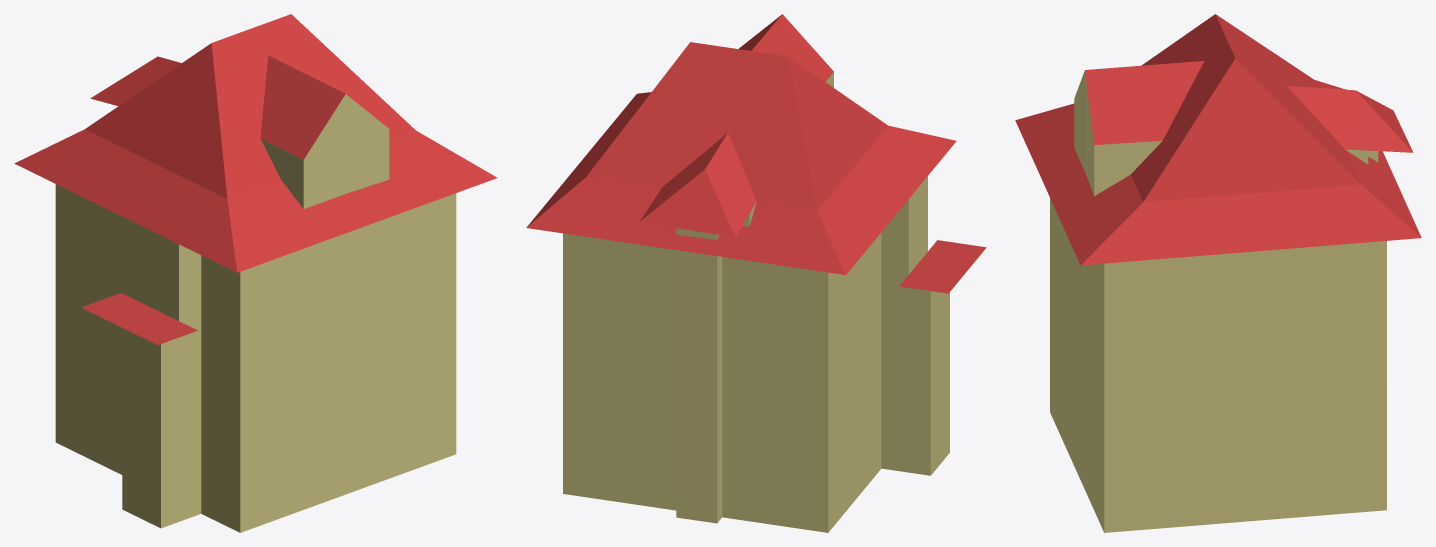
3 views of the same model, side by side, from view 1: azimuth 30°, elevation 25°; view 2: azimuth 150°, elevation 25°; view 3: azimuth 270°, elevation 25° (orthographic). The views are drawn at different scales.
Parts seen in each view (by area): view 1: group_11, group_7, group_15, group_9, group_8, group_10, group_13, group_3, group_14; view 2: group_11, group_7, group_5, group_15, group_3, group_10, group_4, group_13, group_8, group_14; view 3: group_11, group_7, group_8, group_10, group_9, group_3, group_4.
Boxes of the visible parts, x1,y1,x2,y2 form: group_11: (55, 184, 456, 532); group_7: (14, 14, 497, 272); group_15: (122, 328, 178, 528); group_9: (261, 94, 389, 208); group_8: (260, 55, 345, 159); group_10: (15, 144, 494, 272); group_13: (82, 293, 197, 344); group_3: (90, 56, 181, 106); group_14: (81, 293, 197, 344); group_11: (563, 176, 927, 532); group_7: (526, 42, 956, 274); group_5: (654, 202, 756, 523); group_15: (908, 288, 949, 475); group_3: (655, 133, 756, 236); group_10: (530, 93, 928, 274); group_4: (639, 184, 735, 237); group_13: (899, 240, 986, 293); group_8: (739, 14, 833, 81); group_14: (901, 240, 985, 293); group_11: (1050, 129, 1386, 532); group_7: (1015, 14, 1421, 265); group_8: (1085, 61, 1204, 144); group_10: (1015, 108, 1419, 264); group_9: (1074, 70, 1162, 196); group_3: (1287, 85, 1413, 152); group_4: (1362, 98, 1413, 152).
Bounding box in the file's own units: 14.42 × 13.62 × 15.7.
